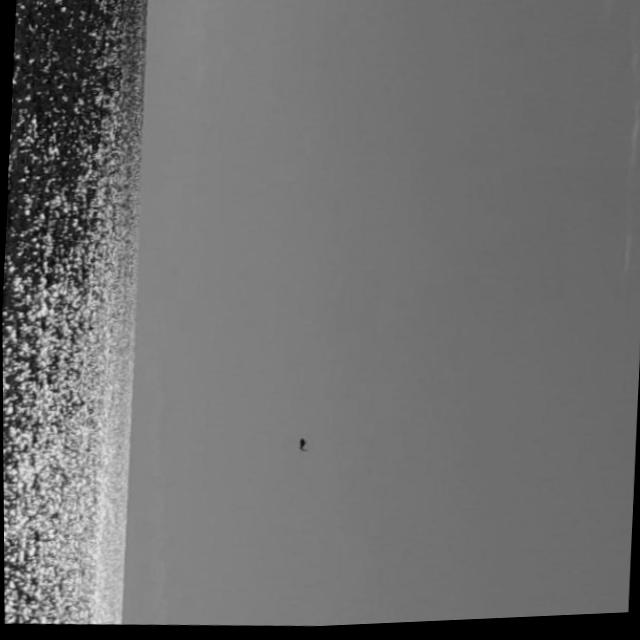helikopter: (275, 419, 330, 479)
